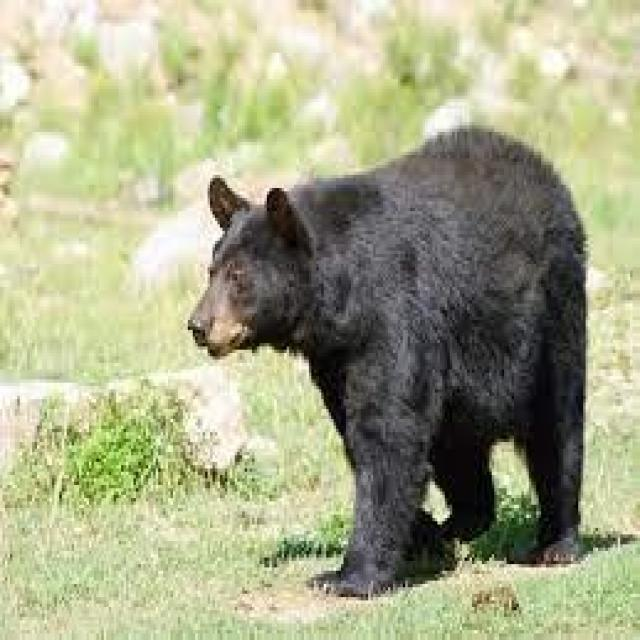Bear: (185, 129, 588, 600)
